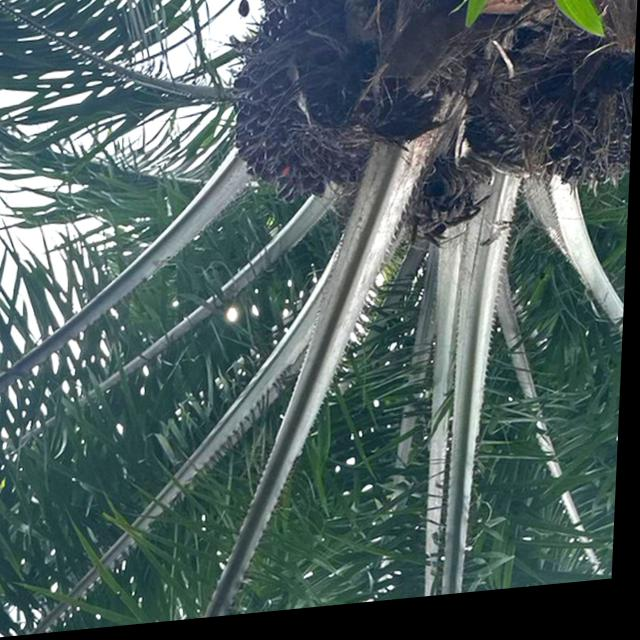ripe: (205, 0, 408, 232), (509, 69, 636, 230)
